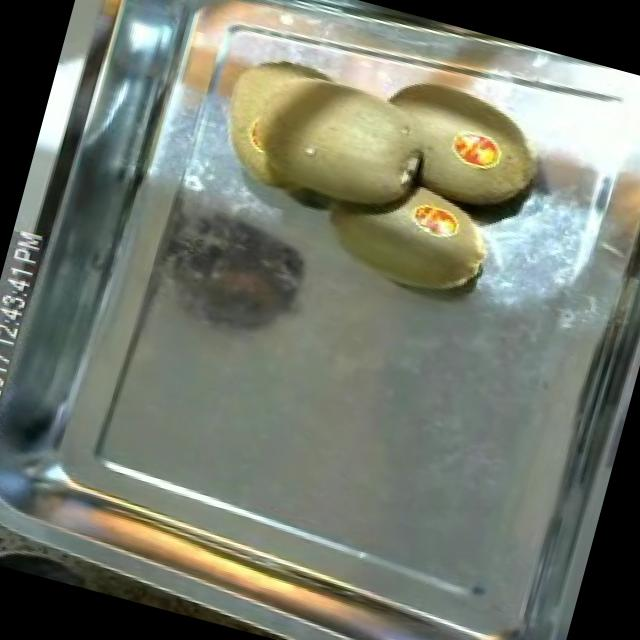Fruit: (185, 22, 458, 246), (315, 159, 510, 315)
